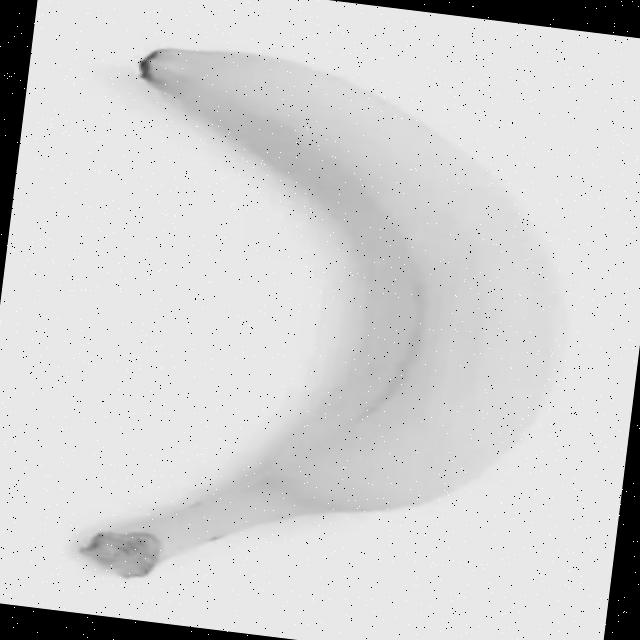banana: (75, 39, 598, 629)
